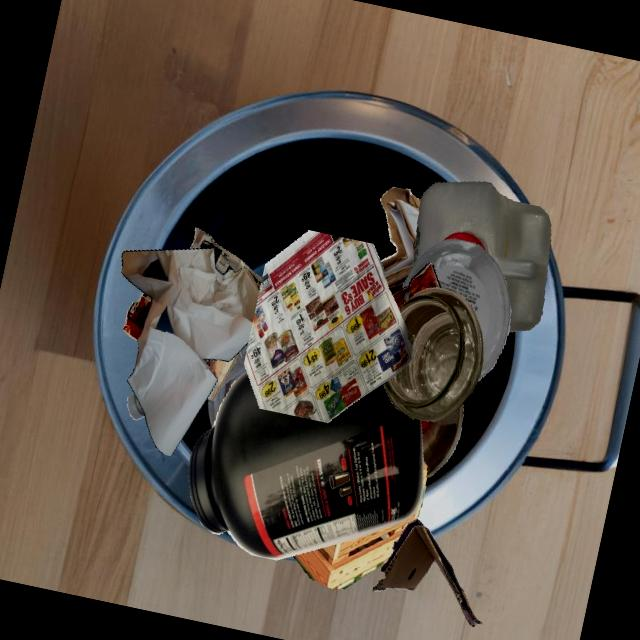cardboard: (372, 518, 482, 627), (380, 186, 420, 294)
combustible waste: (292, 460, 426, 589)
glass: (383, 287, 483, 422)
paper: (243, 230, 413, 423), (121, 248, 259, 456), (145, 249, 211, 395)
plastic: (188, 371, 423, 560), (412, 181, 550, 332), (401, 238, 510, 382), (421, 403, 463, 477), (220, 342, 248, 388), (126, 391, 144, 420)
trash: (391, 263, 440, 308)
